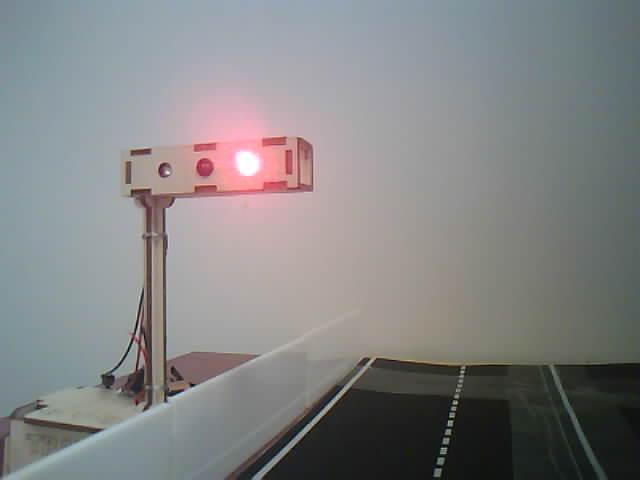red: (109, 128, 328, 222)
